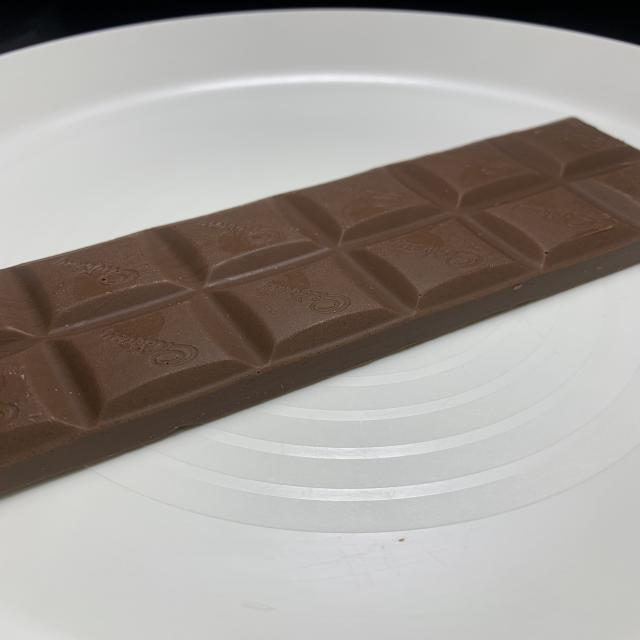Chocolate: (0, 118, 640, 502)
